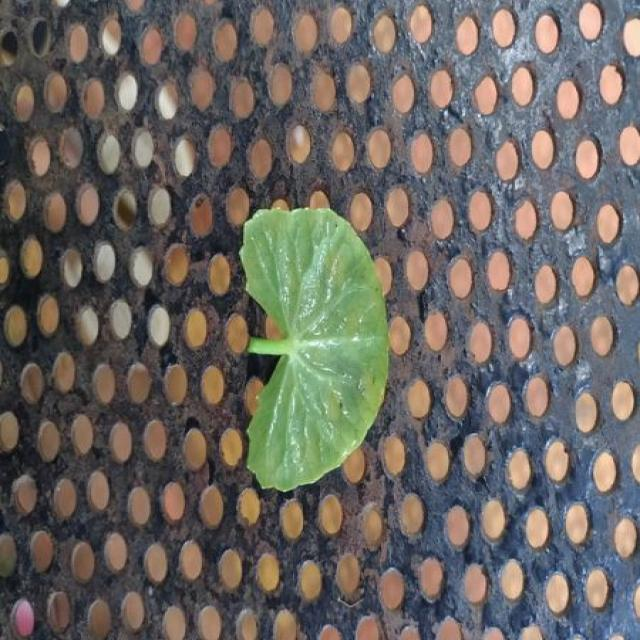bhrami: (240, 209, 388, 491)
